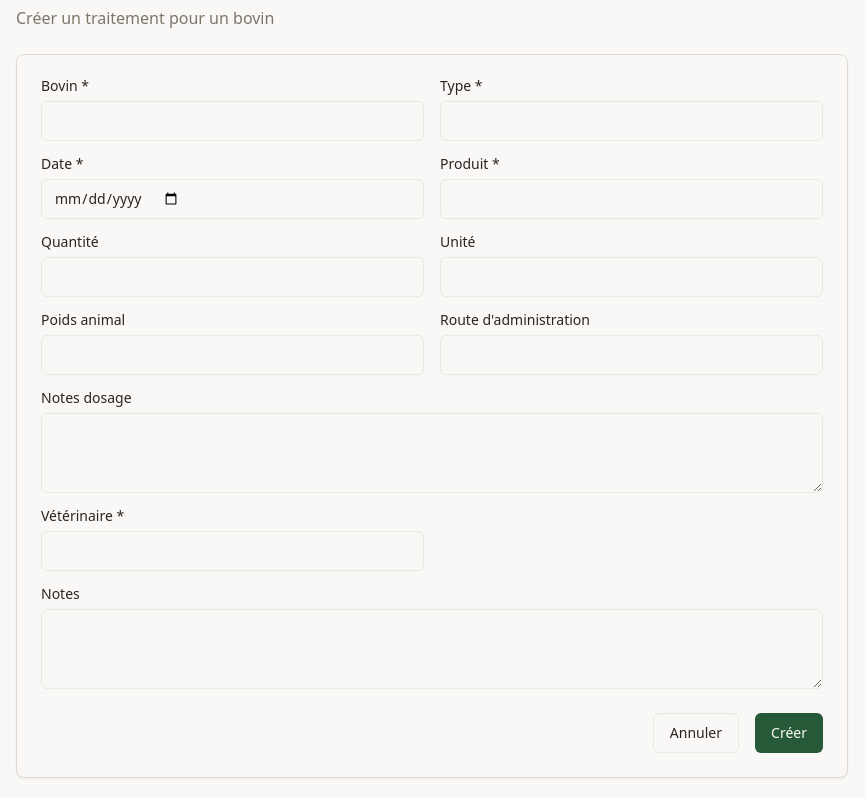
it: TreatmentsCreatePage › renders the create page and shows validation errors
(page scrolled)
What coordinates should you click on to do the following:
click the button "Créer"
I would click on:
 (789, 733)
Its box is [755,713,823,753].
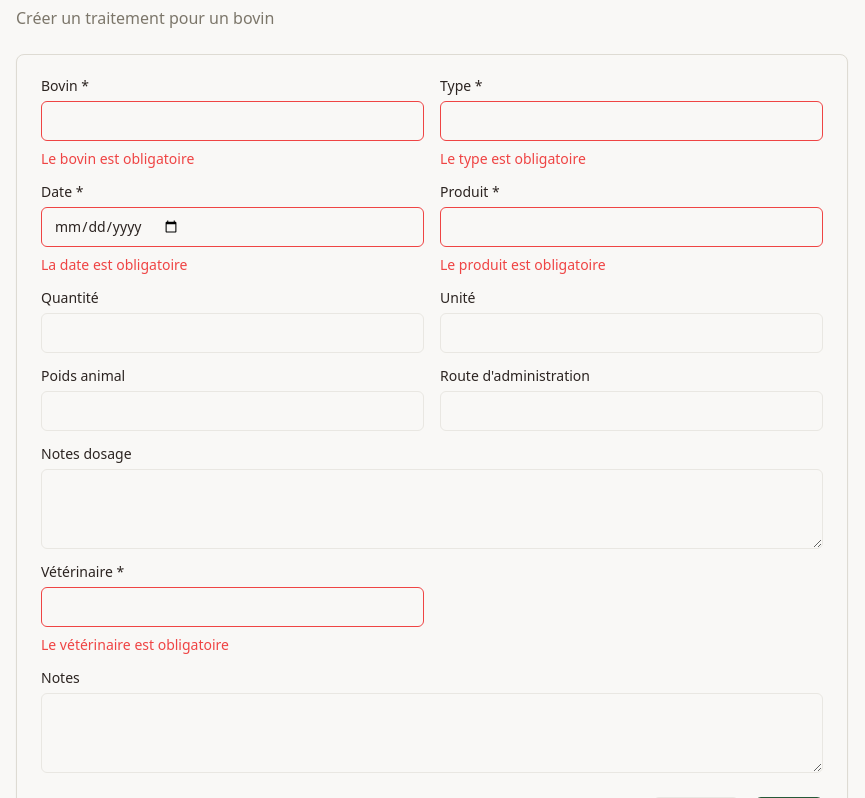
Expected: the text "Le bovin est obligatoire" is shown, [41,149,194,168]
Expected: the text "Le type est obligatoire" is shown, [440,149,586,168]
Expected: the text "La date est obligatoire" is shown, [41,255,188,274]
